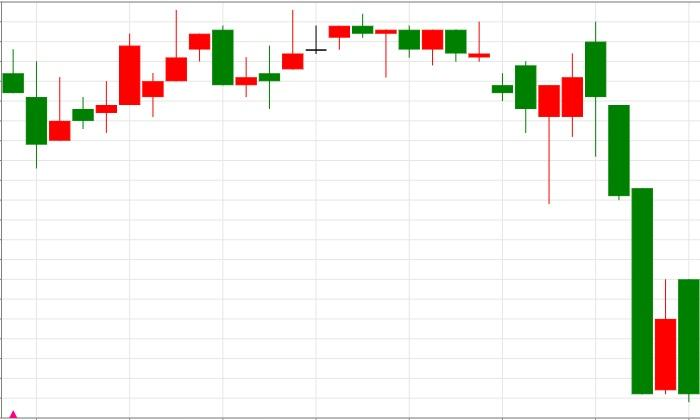bearish_engulfing_fall: (25, 10, 234, 168)
hammer_rise: (352, 13, 560, 204)
three_black_crows_fall: (538, 22, 654, 395)
